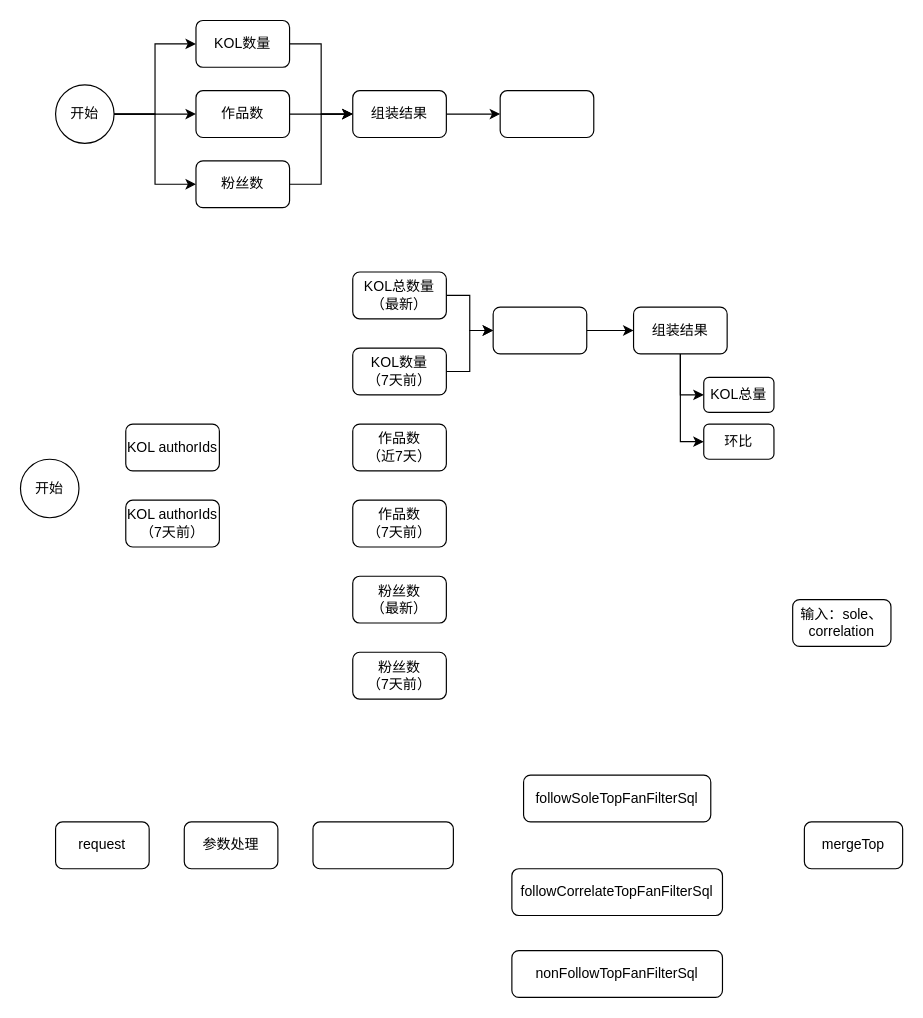
This 923x1018 diagram has some shape labels left out. The centre of each missing label's shape, as x and y in pixels:
计算环比: point (539, 330)
输出map[string]interface{}: point (382, 845)
返回数据: point (546, 113)
